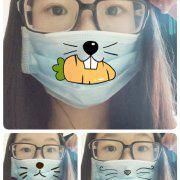OK: (29, 2, 139, 105), (94, 136, 156, 180), (12, 137, 63, 180)
